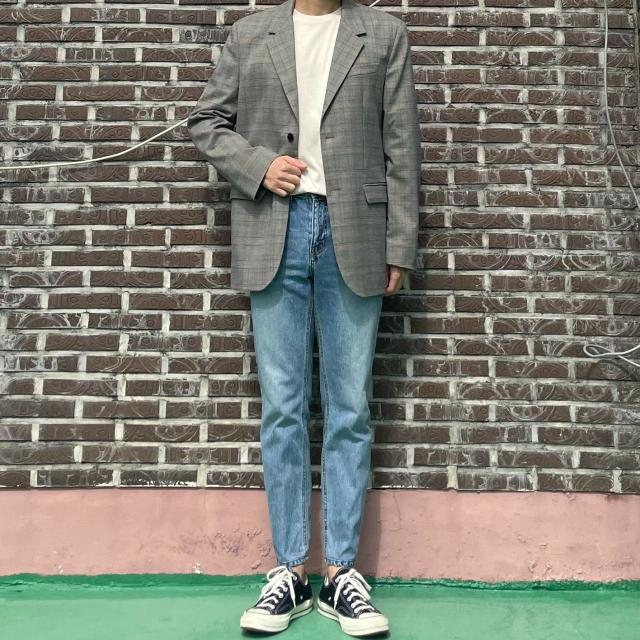blazer: (187, 0, 416, 294)
denimpants: (243, 198, 383, 571)
